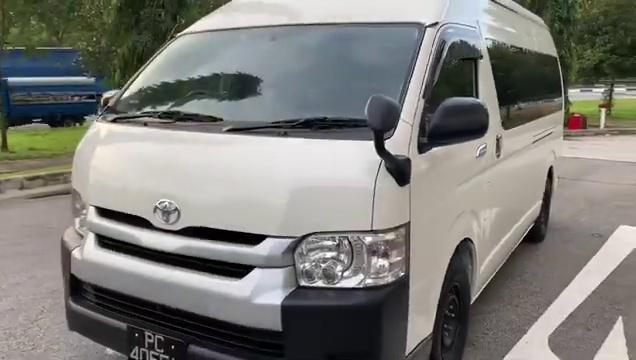Van: (59, 1, 559, 357)
